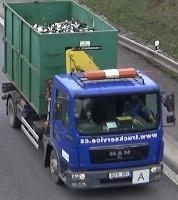Truck: (2, 1, 173, 192)
